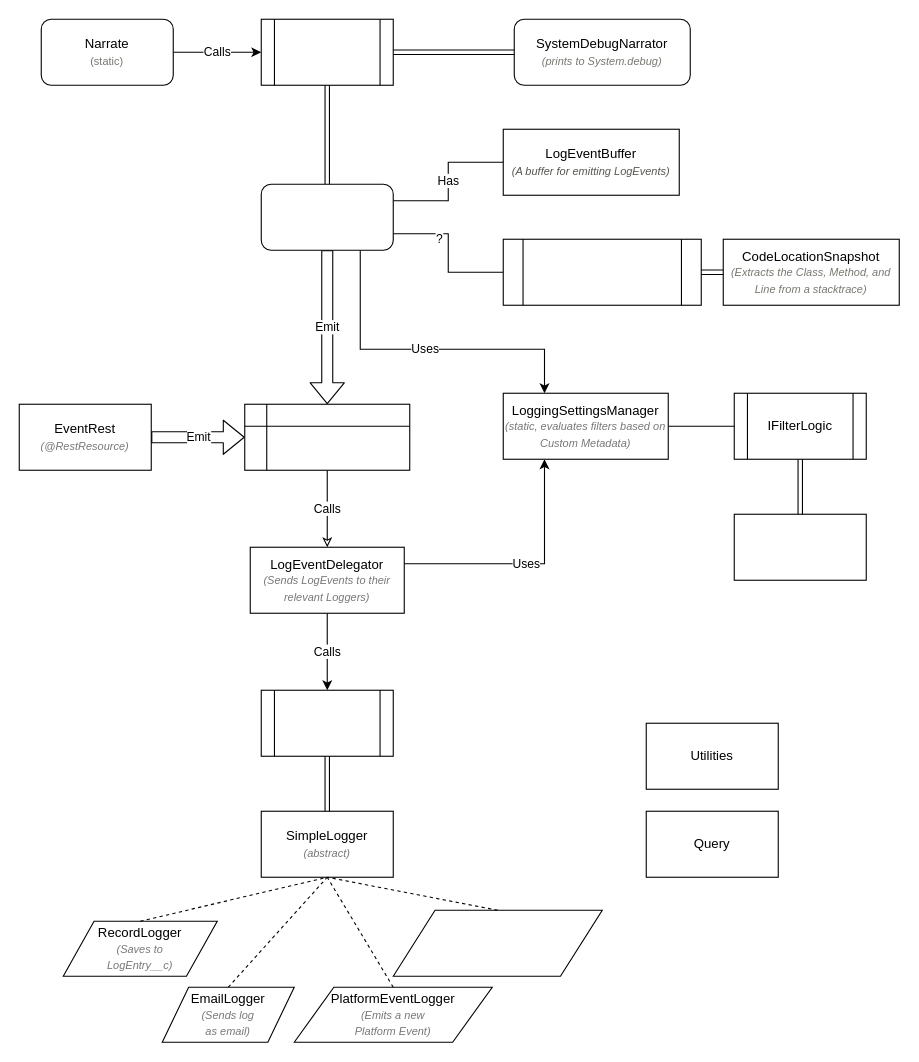
This 919x1062 diagram has some shape labels left out. The shapes that lost their labels are listed below. From the top down, each one's box as (x1, y1, x2, y2) in pixels, then its label:
(260, 18, 393, 85): INarrator
(260, 183, 393, 250): AutoContextNarrator (Execution Context-aware emitter)
(502, 238, 701, 305): ICodeLocationSnapshot
(244, 403, 410, 470): LogEvent.trigger
(733, 513, 866, 580): SimpleFilterLogic
(260, 689, 393, 756): ILogger
(392, 909, 602, 976): LiveNotificationLogger (Pops up a native Salesforce notification)
